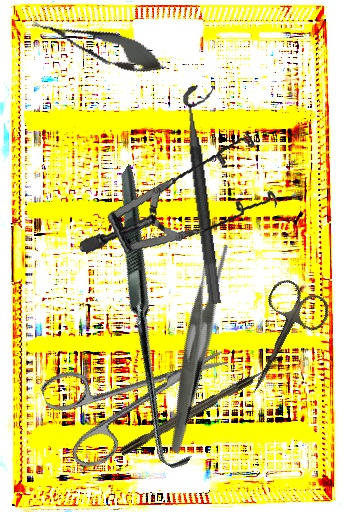Dressing Forceps: (107, 235, 282, 455)
Fixation Ring: (181, 83, 240, 305)
Hook Surgical: (2, 164, 307, 474), (118, 360, 280, 457)
Iris Scissors: (38, 314, 244, 475), (225, 275, 335, 407)
Micro Scissor: (25, 6, 172, 84)
Speculum: (78, 108, 288, 281)
